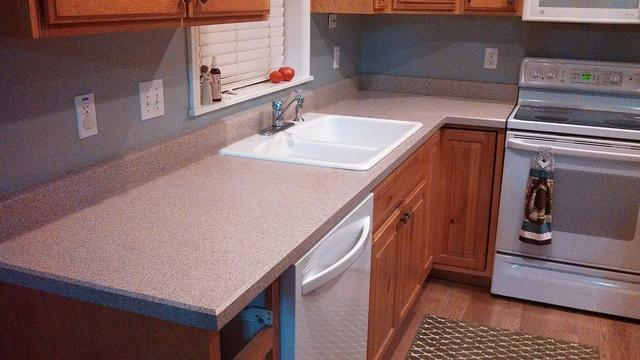tomato: (278, 66, 294, 81), (269, 71, 283, 83)
